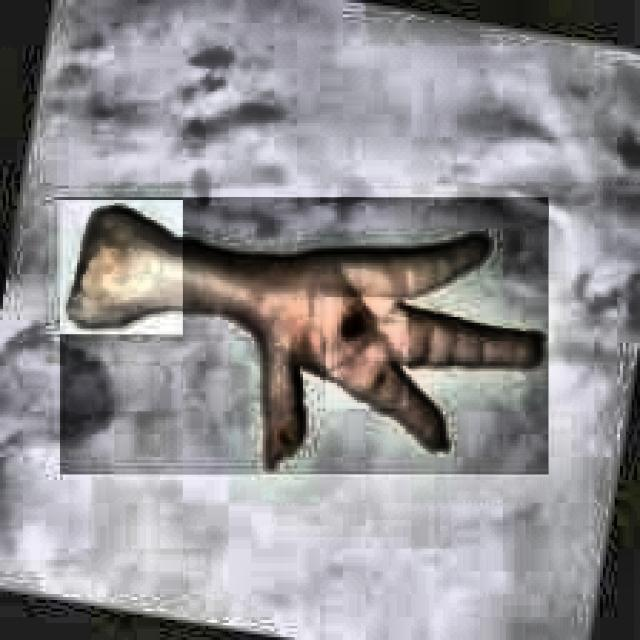Bumble foot: (63, 200, 543, 469)
